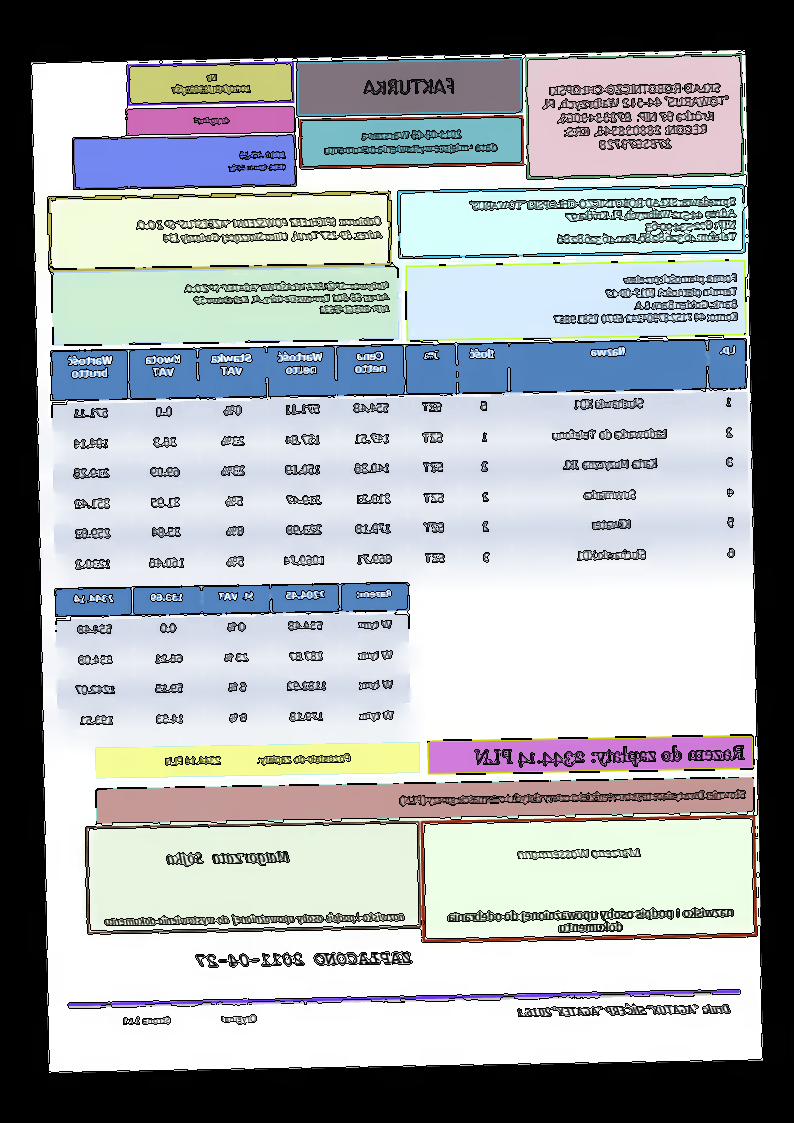Table: (49, 337, 752, 587), (54, 581, 413, 741)
TextBox: (468, 193, 739, 250), (540, 80, 731, 154), (552, 270, 740, 326), (444, 903, 737, 936), (134, 212, 385, 249), (181, 277, 393, 320), (473, 737, 747, 770), (398, 785, 748, 810), (103, 908, 407, 929), (323, 127, 500, 156), (195, 948, 414, 971), (515, 1000, 732, 1019), (163, 748, 354, 769), (119, 1009, 260, 1029), (165, 846, 292, 868), (514, 843, 644, 863), (169, 68, 253, 98), (360, 75, 458, 98), (227, 147, 289, 175), (192, 112, 232, 128)
